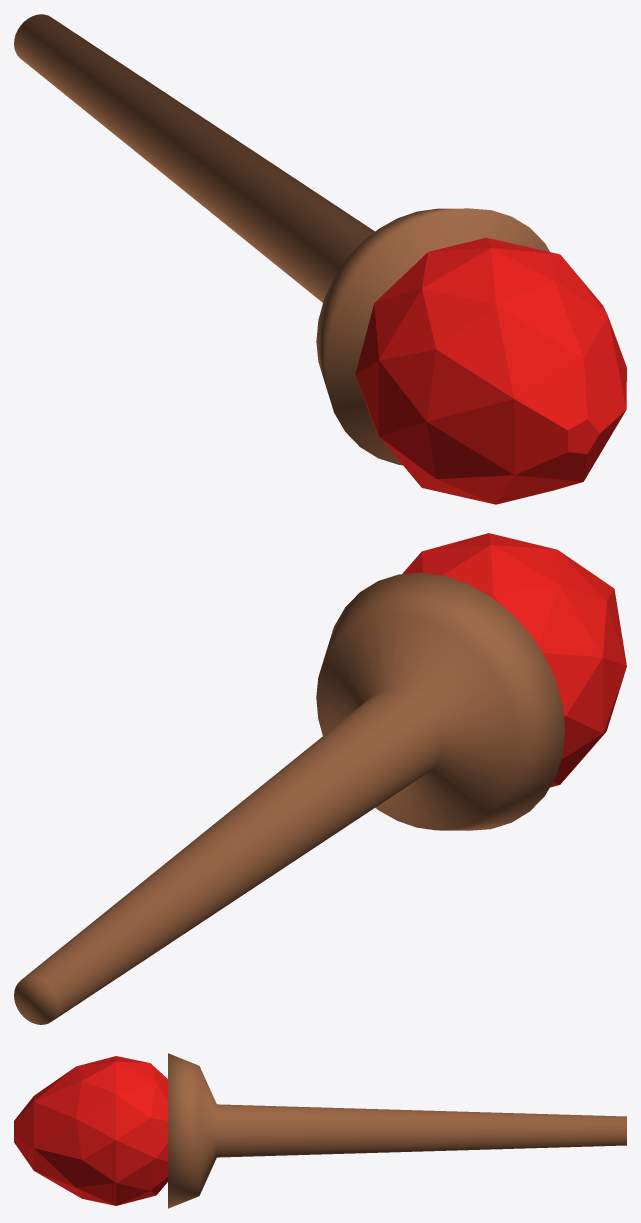
File: sceptre.glb
3 renders of one model, top to bottom at view 1: azimuth 30°, elevation 25°; view 2: azimuth 150°, elevation 25°; view 3: azimuth 270°, elevation 25°, orthographic. The views are drawn at different scales.
Parts seen in each view (by area): view 1: sceptre; view 2: sceptre; view 3: sceptre.
Boxes of the visible parts, left/top/right/bottom form: sceptre: left=14, top=14, right=626, bottom=504; sceptre: left=14, top=533, right=626, bottom=1024; sceptre: left=14, top=1053, right=626, bottom=1208.
Bounding box in the file's own units: 0.3618 × 0.3618 × 1.42.
